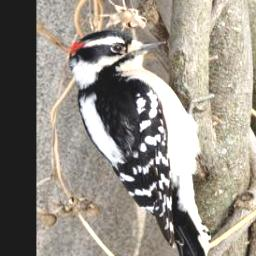Woodpecker: (68, 28, 213, 256)
